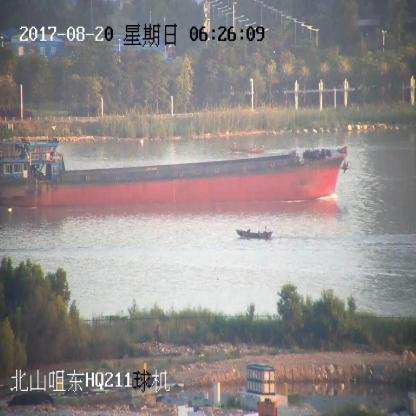Fishing Boat: (229, 139, 266, 155), (236, 227, 272, 239)
